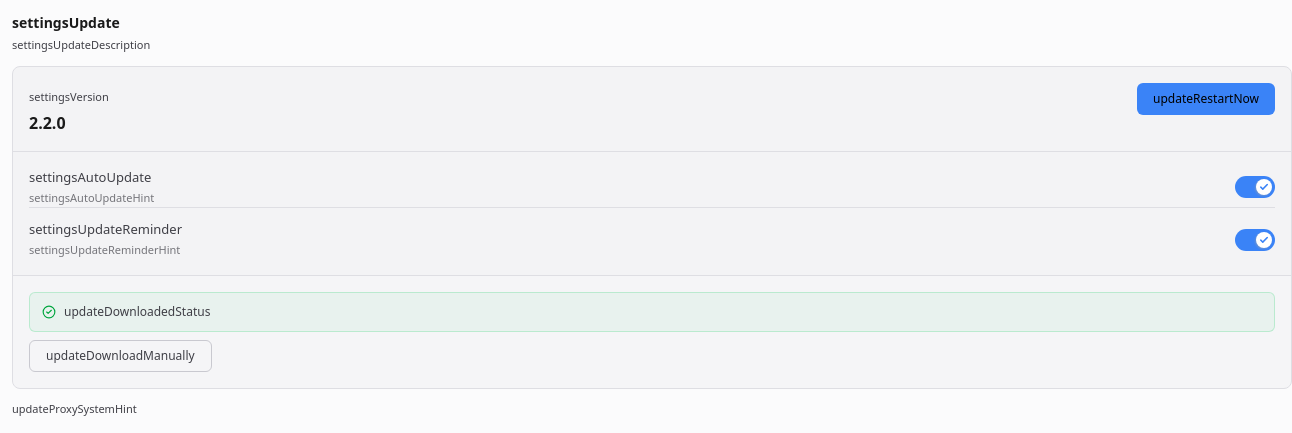
Test: update settings errors › localizes a failed installation
This screenshot has width=1292, height=433.
Click the button "updateRestartNow": (1206, 98) left=1137, top=82, right=1275, bottom=114
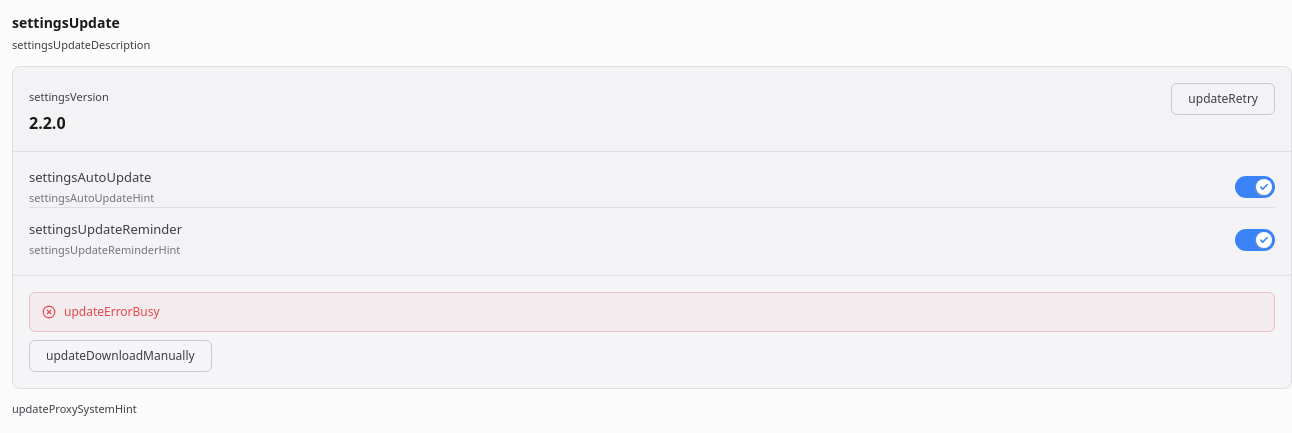
Expected: the text "updateErrorBusy" is shown, left=64, top=303, right=160, bottom=321
